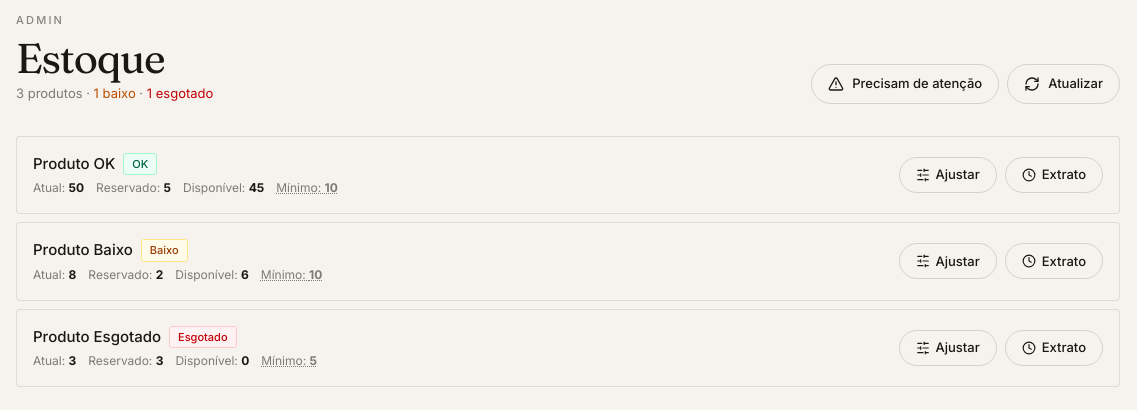
Test case: StockManager — C3: feedback ao salvar o mínimo › salvar o mínimo com sucesso mostra confirmação
The image size is (1137, 410).
Click the button with test id "editar-min-p1" at coordinates (307, 188), box [276, 179, 338, 197]
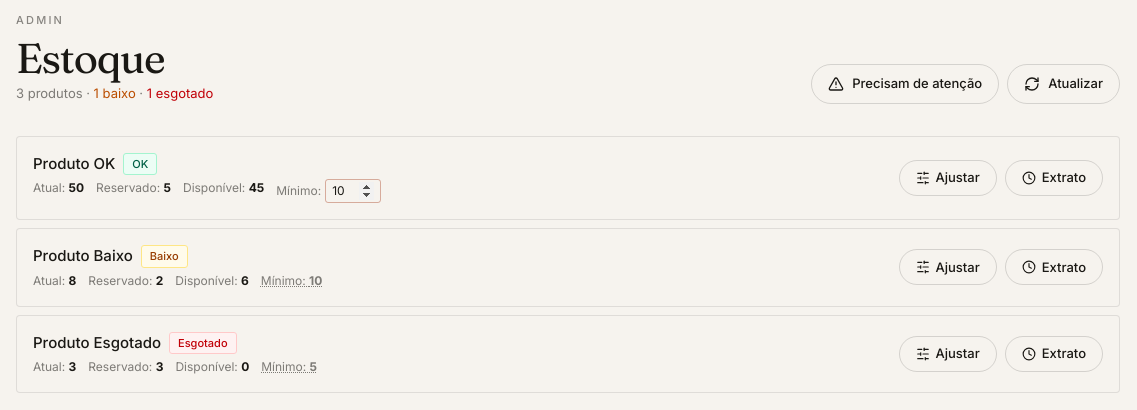
Replace the text in the number field with test id "input-min-p1" with "8" at coordinates (353, 191), box [325, 179, 381, 203]
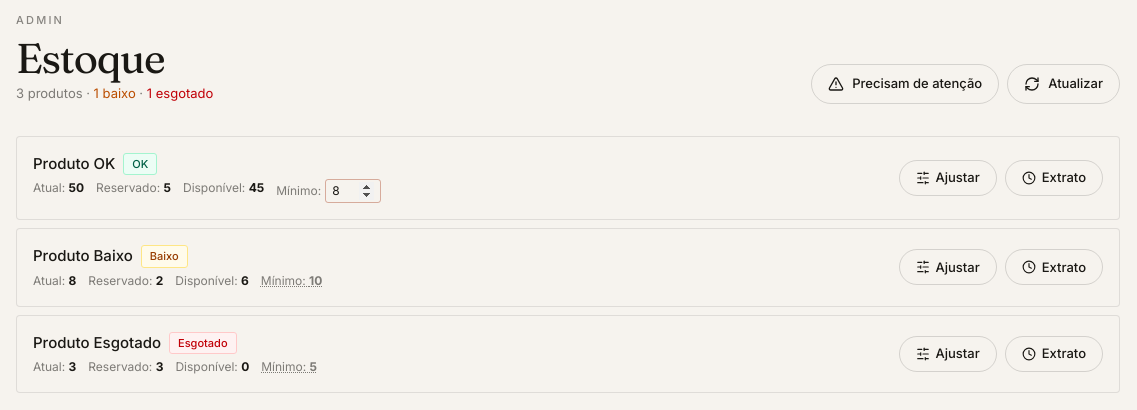
Leave the number field with test id "input-min-p1", box [325, 179, 381, 203]
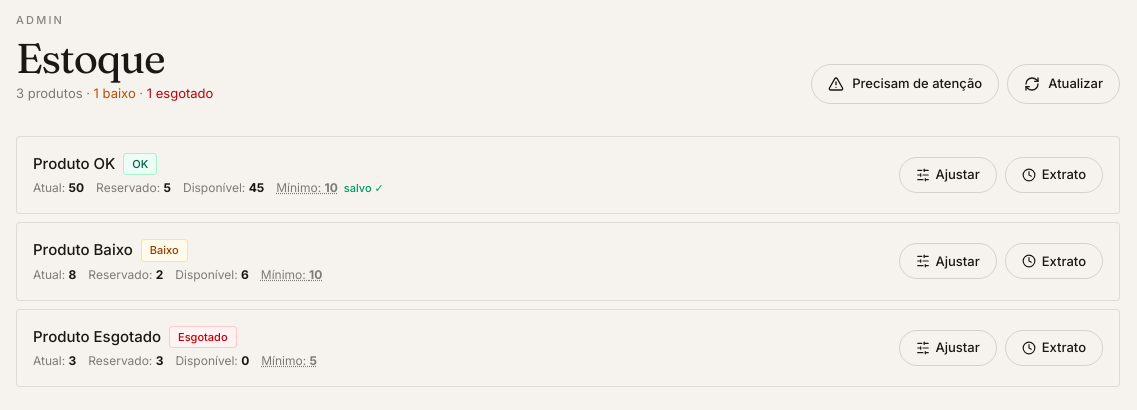
expect the text "salvo ✓" is shown: met, box [344, 180, 384, 196]
